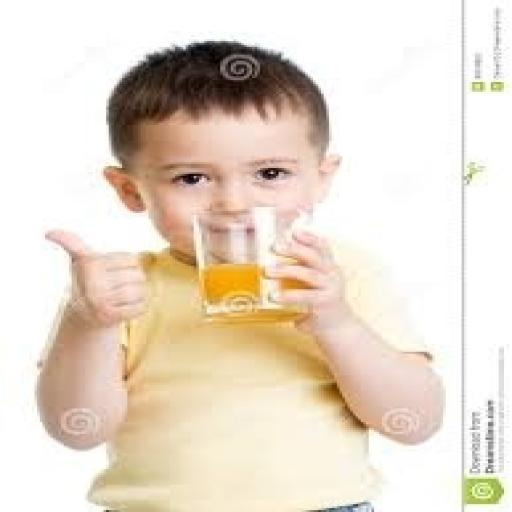drinking: (32, 37, 446, 510), (188, 206, 313, 324)
